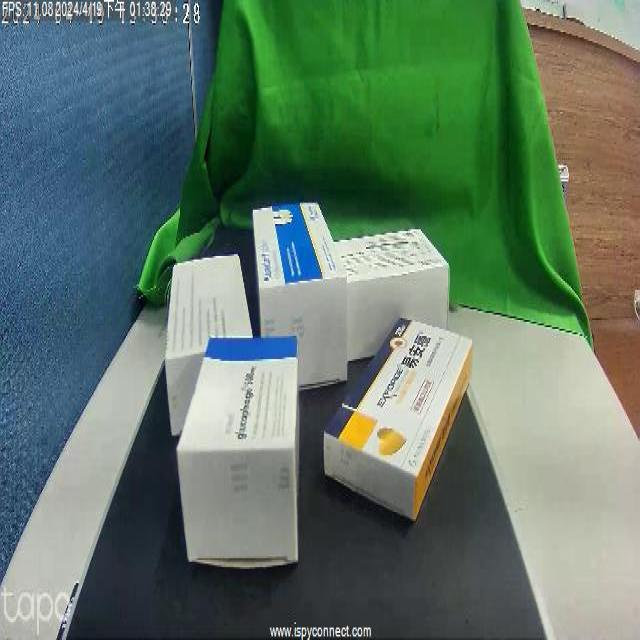box: (194, 329, 304, 555), (345, 328, 459, 508), (333, 224, 447, 347), (160, 254, 239, 414), (250, 202, 332, 341)
